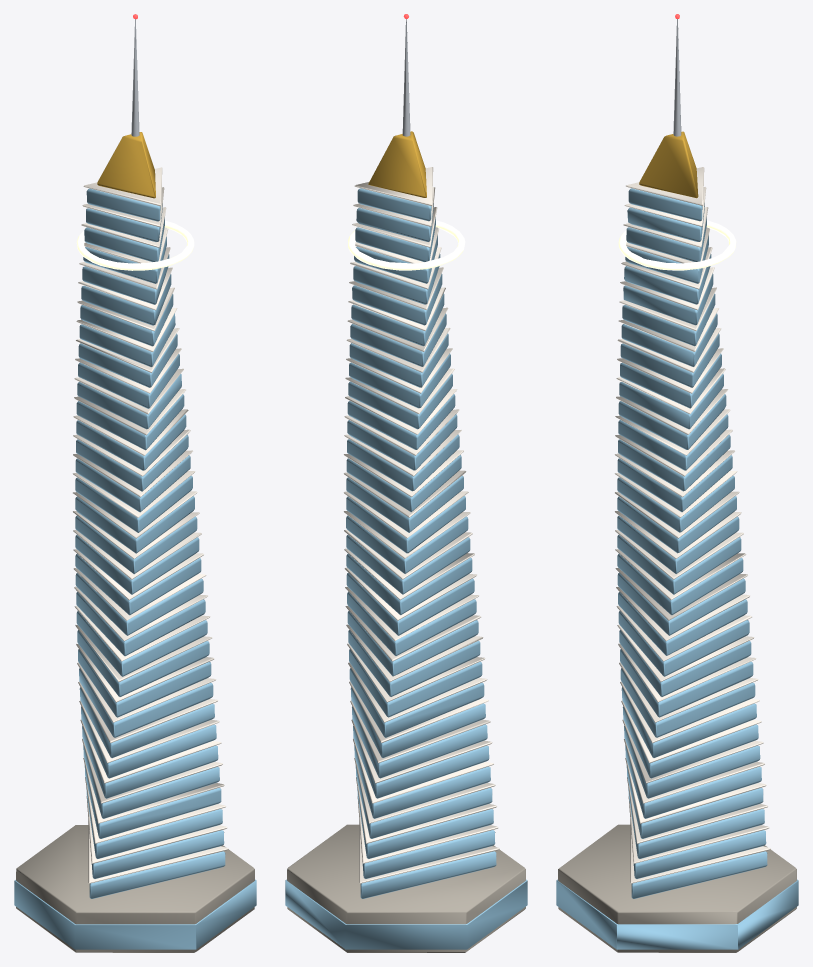
Rendered from supertall.glb.
3 renders of one model, left to right at view 1: azimuth 30°, elevation 25°; view 2: azimuth 150°, elevation 25°; view 3: azimuth 270°, elevation 25°, orthographic.
Visible parts, largest first — view 1: supertall; view 2: supertall; view 3: supertall.
Boxes of the visible parts, <box> form: supertall: <box>14,14,256,952</box>; supertall: <box>285,14,527,952</box>; supertall: <box>556,14,798,952</box>.
Size of the model in its own units: 45.54 by 214 by 52.54.
Materials: 1 (1 with a texture image).
